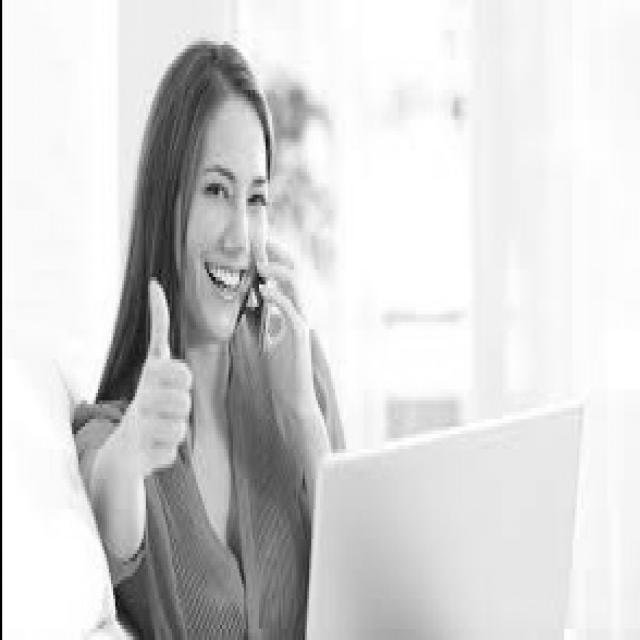phone: (228, 157, 316, 393)
